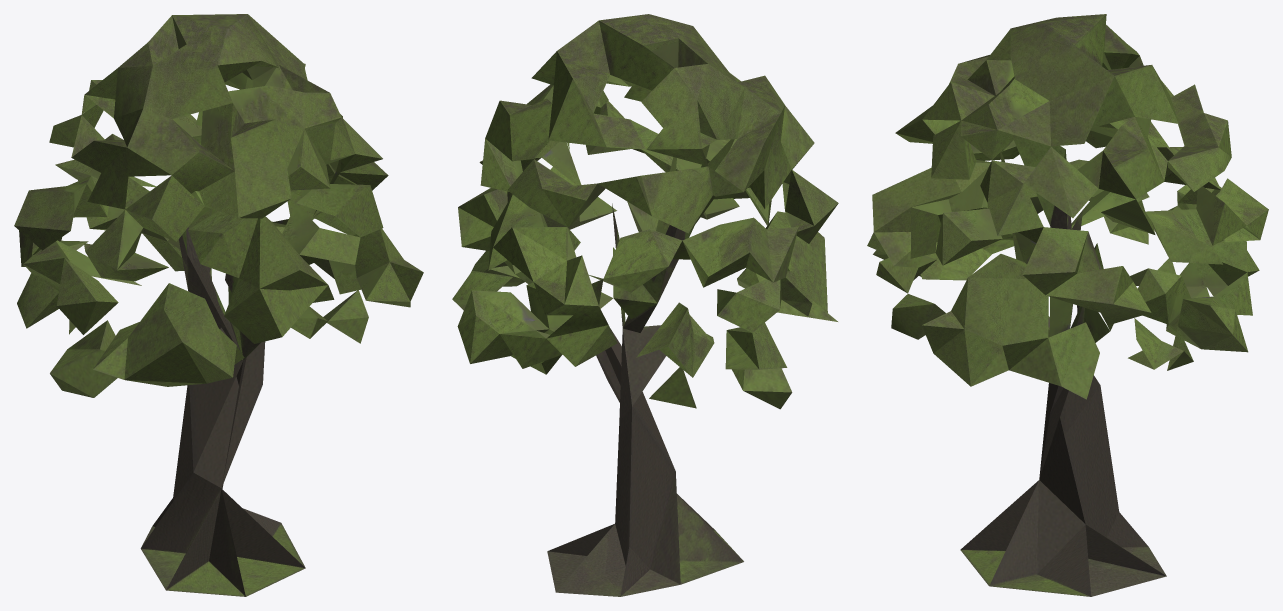
File: broadleaf_1.glb
3 renders of one model, left to right at view 1: azimuth 30°, elevation 25°; view 2: azimuth 150°, elevation 25°; view 3: azimuth 270°, elevation 25°, orthographic.
Size of the model in its own units: 1.23 by 1.88 by 1.27.
1 material, 1 textured.
